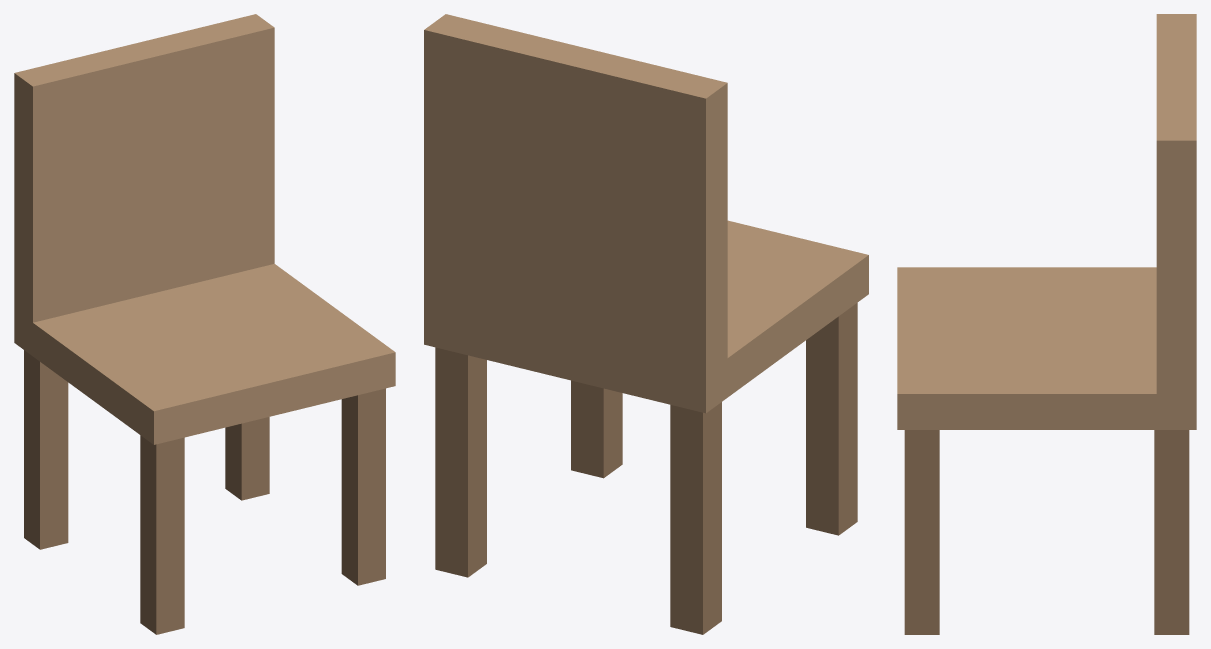
File: silla.glb
The picture shows the model from 3 angles, left to right: view 1: azimuth 30°, elevation 25°; view 2: azimuth 150°, elevation 25°; view 3: azimuth 270°, elevation 25°; orthographic projection. The views are drawn at different scales.
Parts seen in each view (by area): view 1: silla; view 2: silla; view 3: silla.
Boxes of the visible parts, x1,y1,x2,y2 form: silla: (14, 14, 395, 634); silla: (424, 14, 868, 634); silla: (897, 14, 1196, 634).
Bounding box in the file's own units: 0.6 × 1.1 × 0.6.
